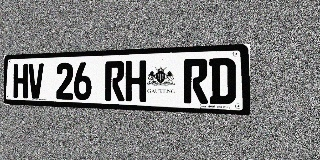2: (56, 62, 73, 100)
6: (74, 62, 92, 100)
D: (209, 58, 236, 105)
H: (125, 60, 146, 102), (13, 64, 28, 98)
R: (183, 58, 208, 104), (105, 61, 125, 101)
V: (28, 63, 44, 99)
